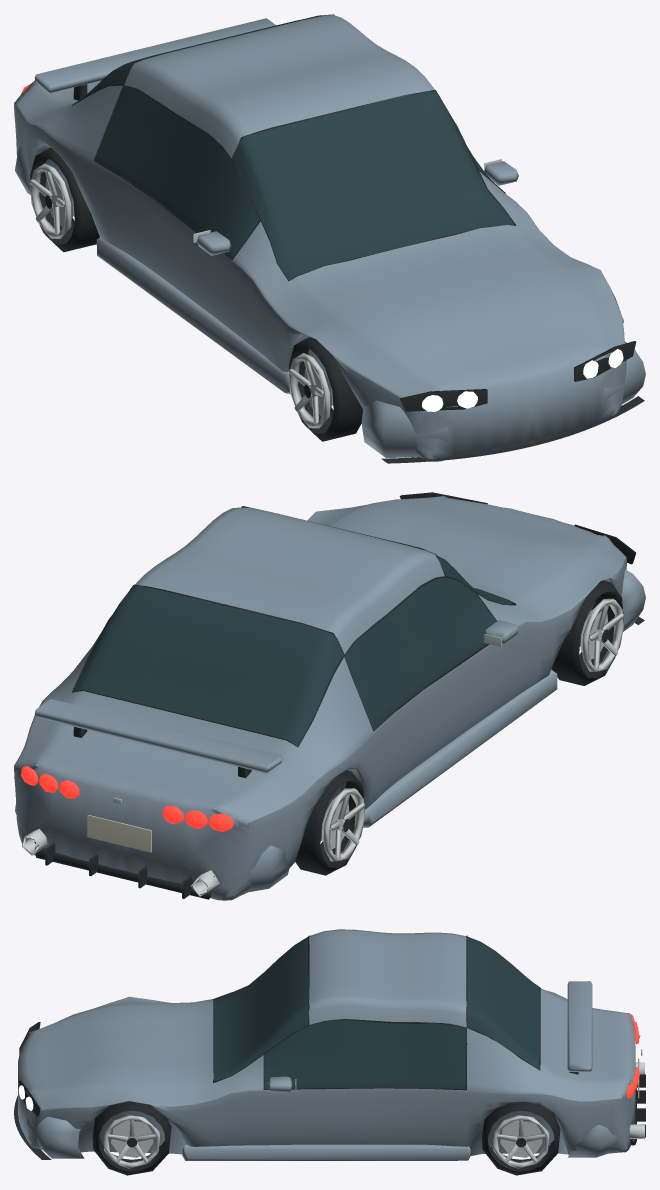
File: neralith-sorvath.glb
3 renders of one model, top to bottom at view 1: azimuth 30°, elevation 25°; view 2: azimuth 150°, elevation 25°; view 3: azimuth 270°, elevation 25°, orthographic. The views are drawn at different scales.
Visible parts, largest first — view 1: scocca, cristallo_ant, cofano, tetto, cristallo_sx, porta_sx, minigonna_sx, paraurti_ant, spoiler, ruota_ant_sx_gomma, ruota_post_sx_gomma, splitter_ant (+10 smaller); view 2: scocca, cristallo_post, tetto, portellone, cofano, cristallo_sx, porta_sx, spoiler, minigonna_sx, ruota_ant_sx_gomma, ruota_post_sx_gomma, targa (+9 smaller); view 3: scocca, tetto, cofano, cristallo_dx, porta_dx, cristallo_ant, cristallo_post, portellone, minigonna_dx, spoiler, ruota_ant_dx_gomma, ruota_post_dx_gomma (+12 smaller).
Part boxes in pixels (x1,y1,x2,y2): scocca: [14, 85, 626, 461]; cristallo_ant: [232, 91, 513, 280]; cofano: [289, 225, 606, 382]; tetto: [124, 15, 434, 158]; cristallo_sx: [94, 85, 259, 258]; porta_sx: [93, 161, 247, 342]; minigonna_sx: [96, 237, 290, 394]; paraurti_ant: [361, 341, 645, 458]; spoiler: [34, 18, 275, 92]; ruota_ant_sx_gomma: [289, 337, 362, 441]; ruota_post_sx_gomma: [30, 148, 99, 252]; splitter_ant: [381, 396, 644, 463]; scocca: [14, 496, 626, 900]; cristallo_post: [73, 585, 343, 746]; tetto: [135, 507, 444, 654]; portellone: [29, 691, 297, 812]; cofano: [327, 498, 606, 604]; cristallo_sx: [344, 577, 496, 730]; porta_sx: [367, 636, 516, 807]; spoiler: [35, 699, 282, 773]; minigonna_sx: [363, 669, 557, 827]; ruota_ant_sx_gomma: [551, 580, 623, 685]; ruota_post_sx_gomma: [295, 770, 364, 875]; targa: [87, 815, 151, 852]; scocca: [18, 990, 635, 1155]; tetto: [309, 929, 466, 1027]; cofano: [40, 1000, 213, 1094]; cristallo_dx: [264, 1020, 466, 1089]; porta_dx: [248, 1088, 466, 1146]; cristallo_ant: [213, 937, 308, 1081]; cristallo_post: [467, 937, 539, 1069]; portellone: [540, 988, 635, 1086]; minigonna_dx: [182, 1144, 470, 1160]; spoiler: [567, 981, 592, 1071]; ruota_ant_dx_gomma: [92, 1101, 171, 1175]; ruota_post_dx_gomma: [482, 1102, 560, 1175].
Size of the model in its own units: 2.3 by 1.52 by 5.41.
